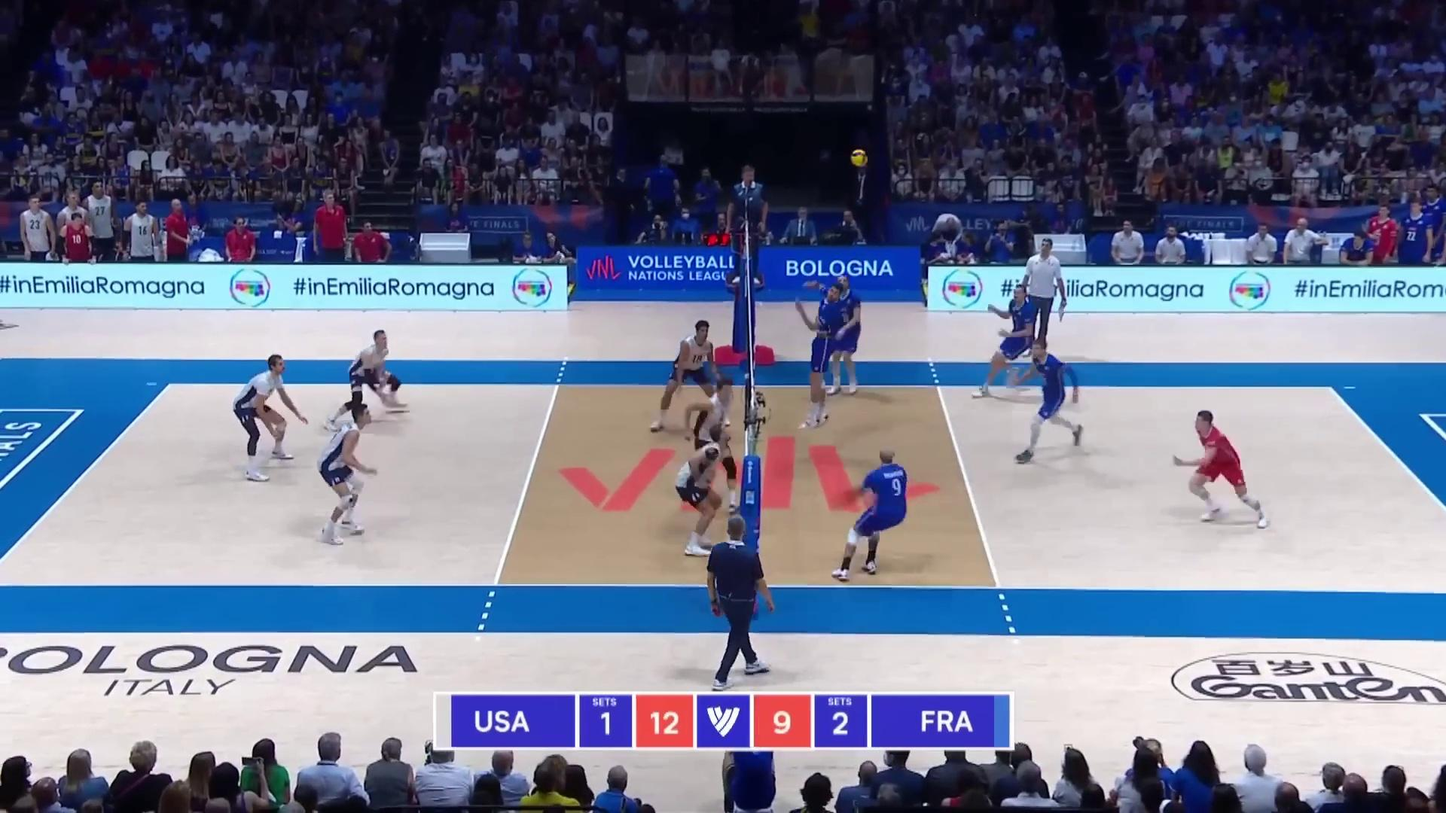player: (1182, 412, 1276, 528), (1018, 338, 1092, 466), (835, 450, 908, 579), (317, 401, 380, 544), (233, 357, 303, 479), (653, 321, 725, 437), (675, 427, 735, 555), (331, 329, 404, 428), (974, 285, 1039, 396), (797, 280, 842, 432), (684, 377, 737, 500), (819, 273, 865, 397)
refree: (688, 519, 769, 684), (726, 168, 766, 288)
